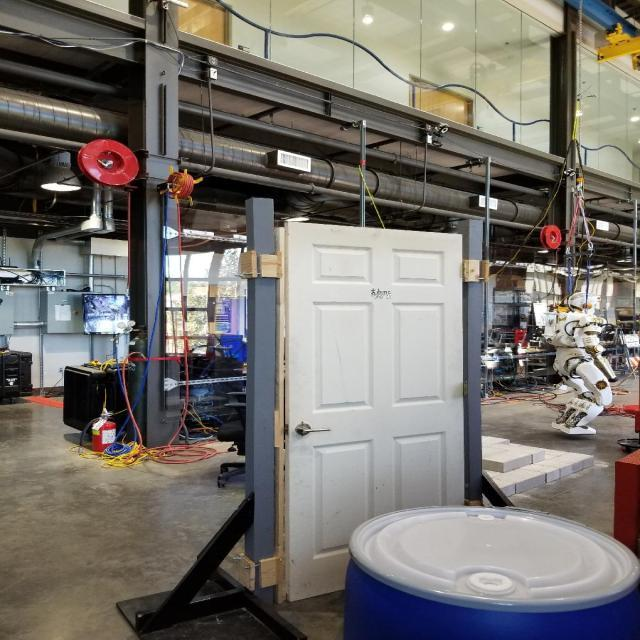door: (283, 220, 464, 604), (290, 420, 340, 442)
